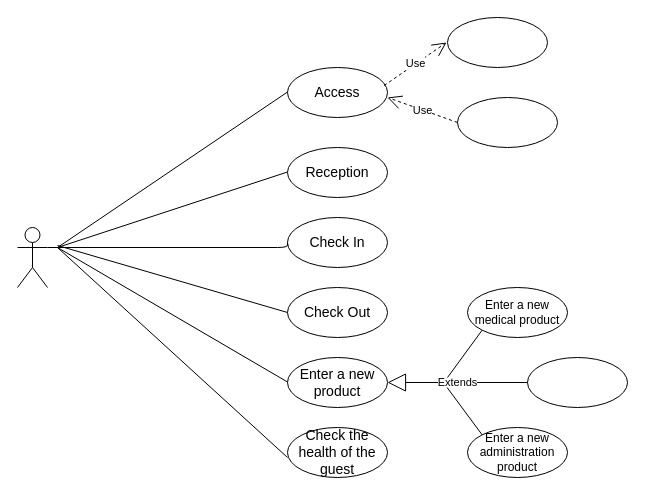
Some shapes in this 645 by 495 pixel diagram are drawn without their labels. The box of each missing label's shape, as (x1, y1, x2, y2) in pixels:
Enter a new food product: (526, 356, 628, 408)
Incorrect password: (456, 96, 558, 148)
User: (16, 226, 48, 288)
Verify log in password: (446, 16, 548, 68)
